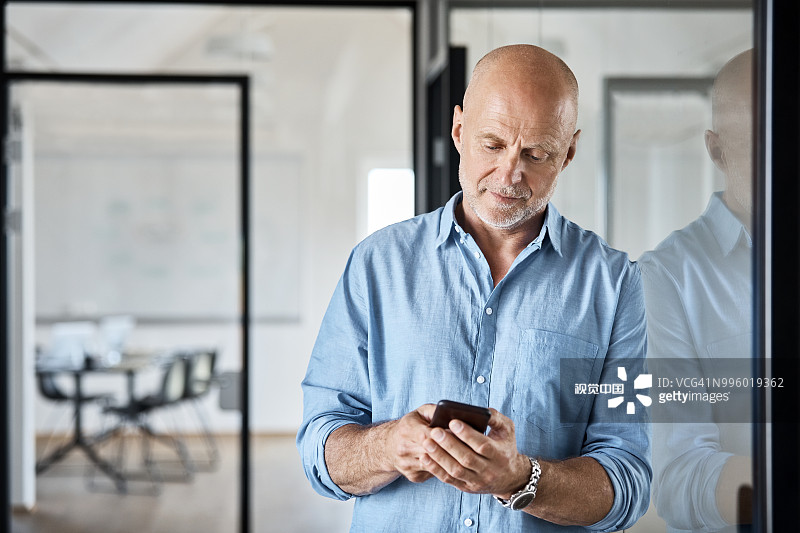reading: (371, 388, 539, 512)
